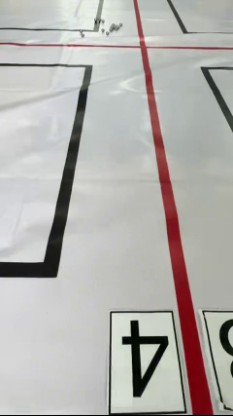ironball: (106, 21, 114, 29), (97, 17, 105, 24), (99, 25, 106, 33), (109, 22, 115, 31), (116, 19, 122, 25), (104, 29, 108, 37), (76, 27, 82, 32), (78, 31, 83, 37), (94, 17, 99, 23), (113, 24, 118, 30)
